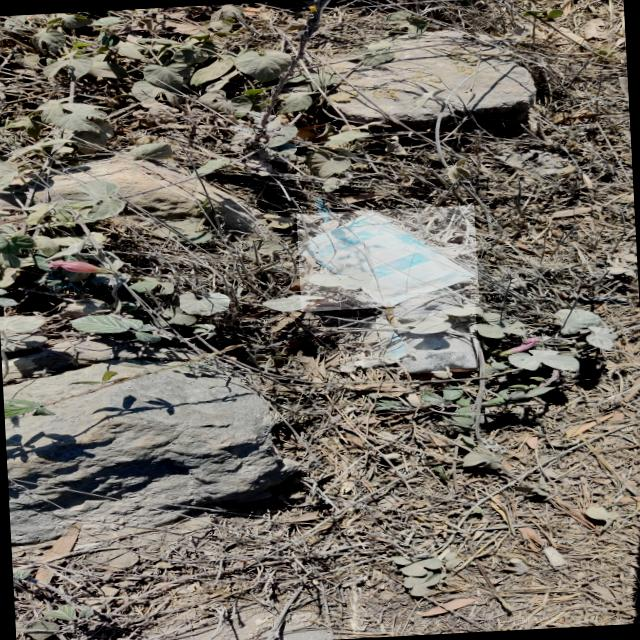Glass bottle: (394, 291, 479, 374)
Other Carton: (342, 316, 414, 372)
Other plastic: (298, 210, 478, 308)
